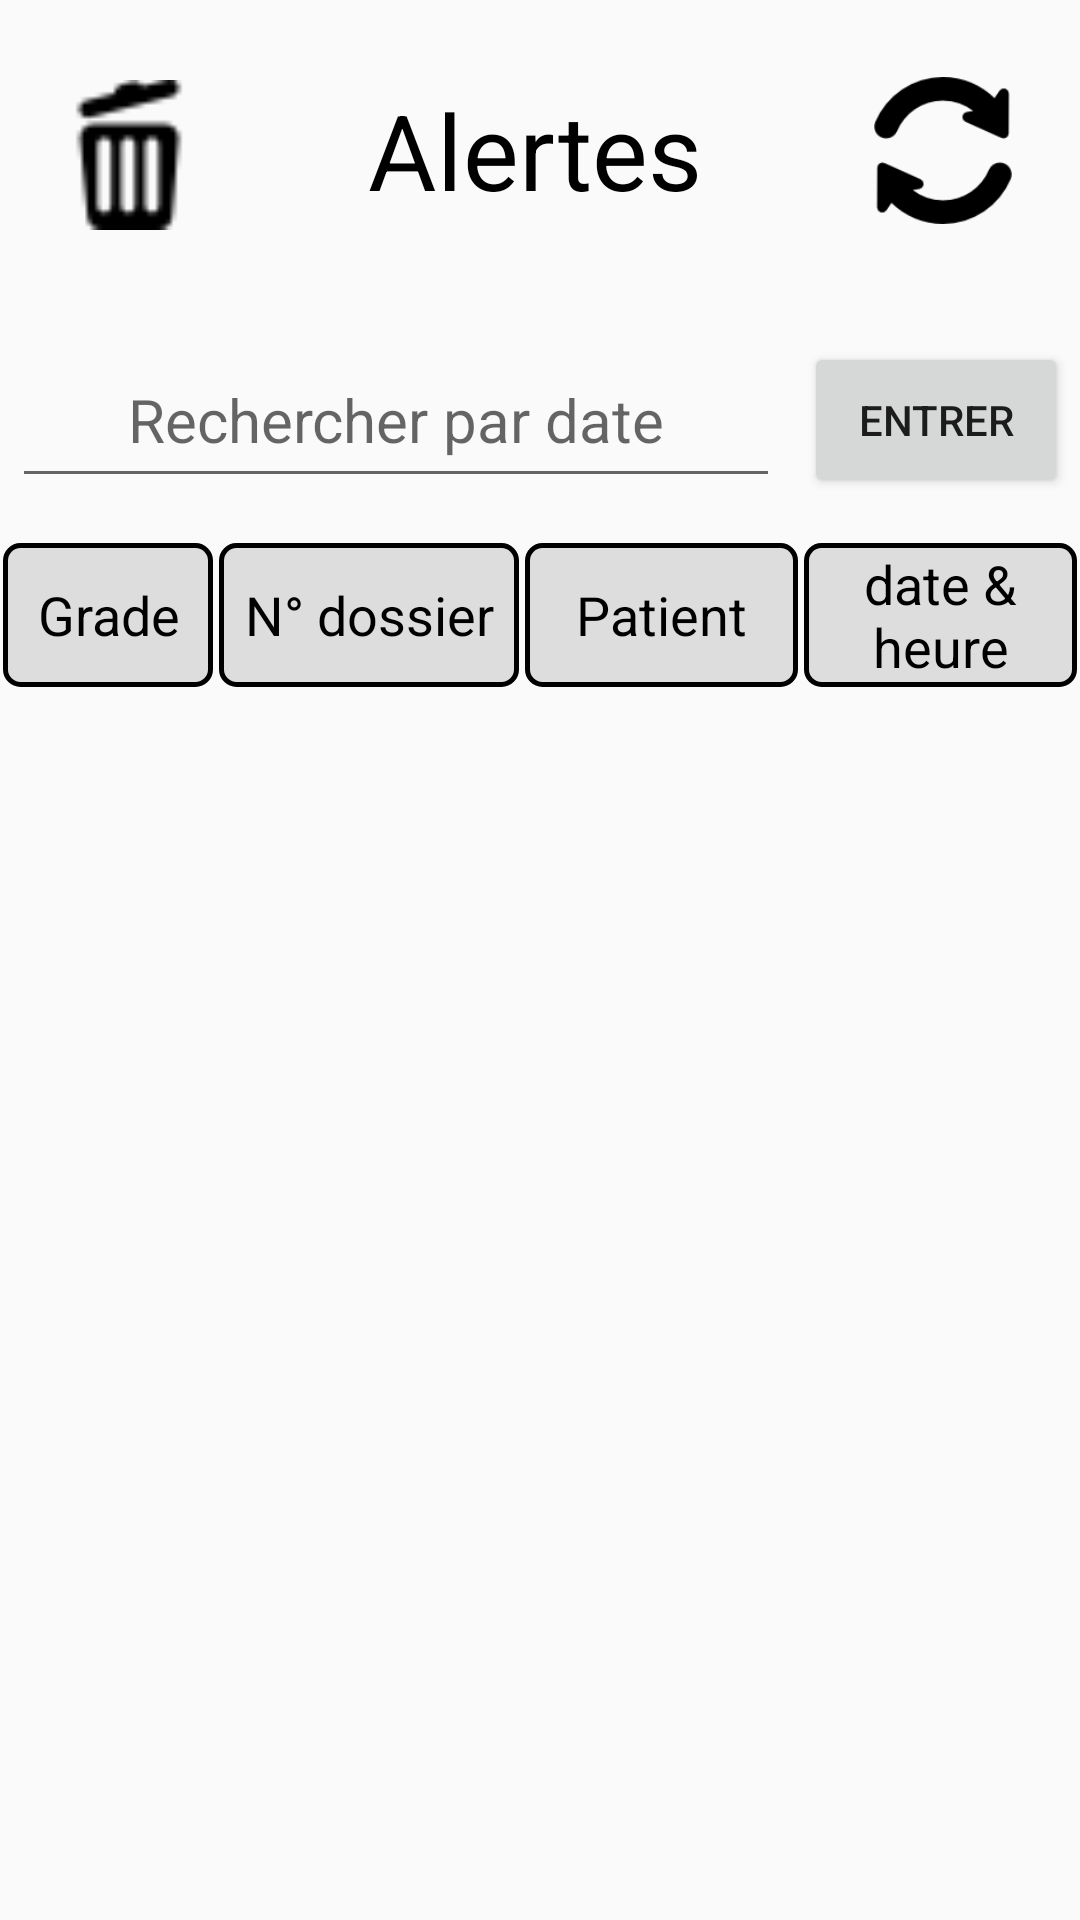

Screen size 1080px×1920px. Icon name, then its center in pixels as point (x, y):
refresh: point (943, 150)
trash can: point (129, 155)
